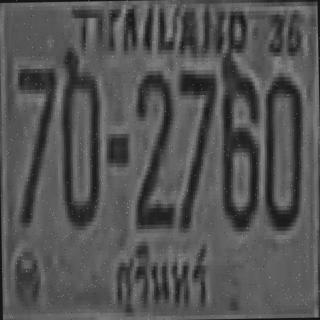N00: (59, 51, 100, 222), (261, 70, 302, 225)
N02: (134, 66, 173, 225)
N06: (218, 65, 260, 227)
N07: (176, 66, 218, 228), (15, 64, 57, 223)
P68: (112, 235, 213, 319)
